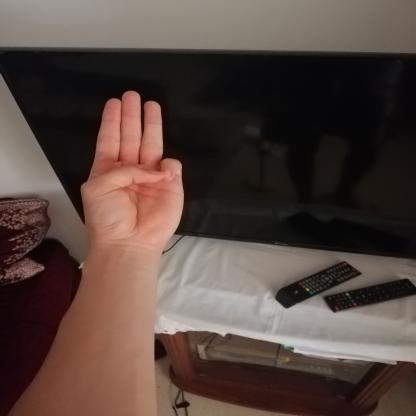THA: (62, 77, 199, 261)
